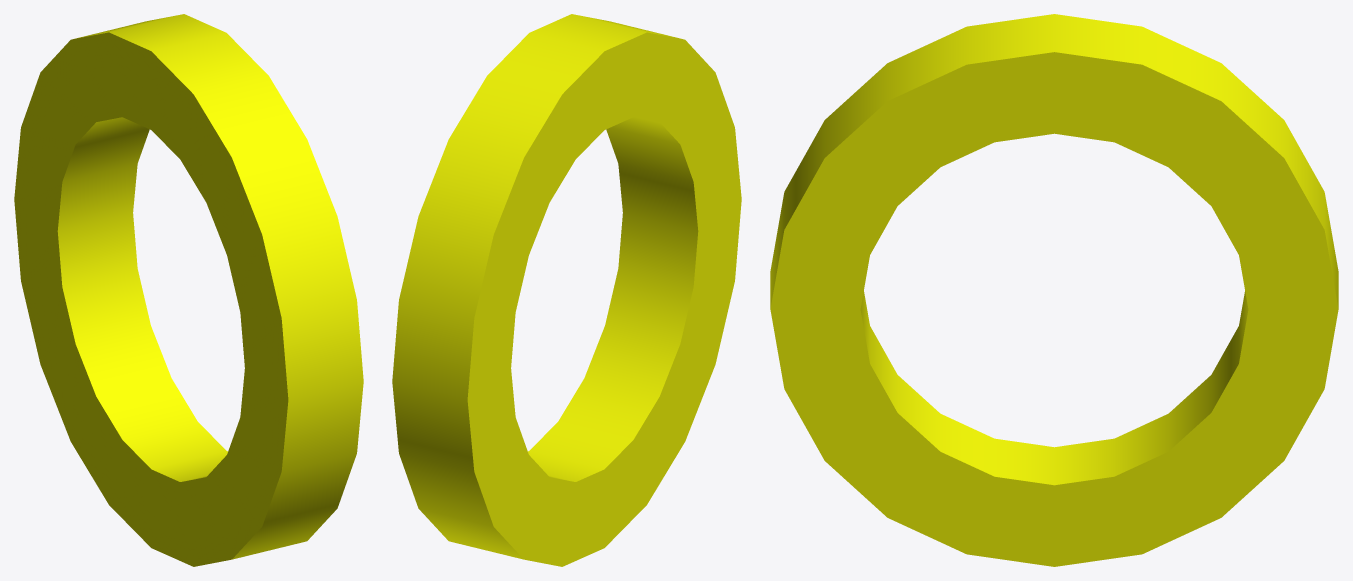
The model's file is giro2.glb.
The picture shows the model from 3 angles, left to right: view 1: azimuth 30°, elevation 25°; view 2: azimuth 150°, elevation 25°; view 3: azimuth 270°, elevation 25°; orthographic projection. The views are drawn at different scales.
Bounding box in the file's own units: 1.02 × 6.44 × 6.44.
